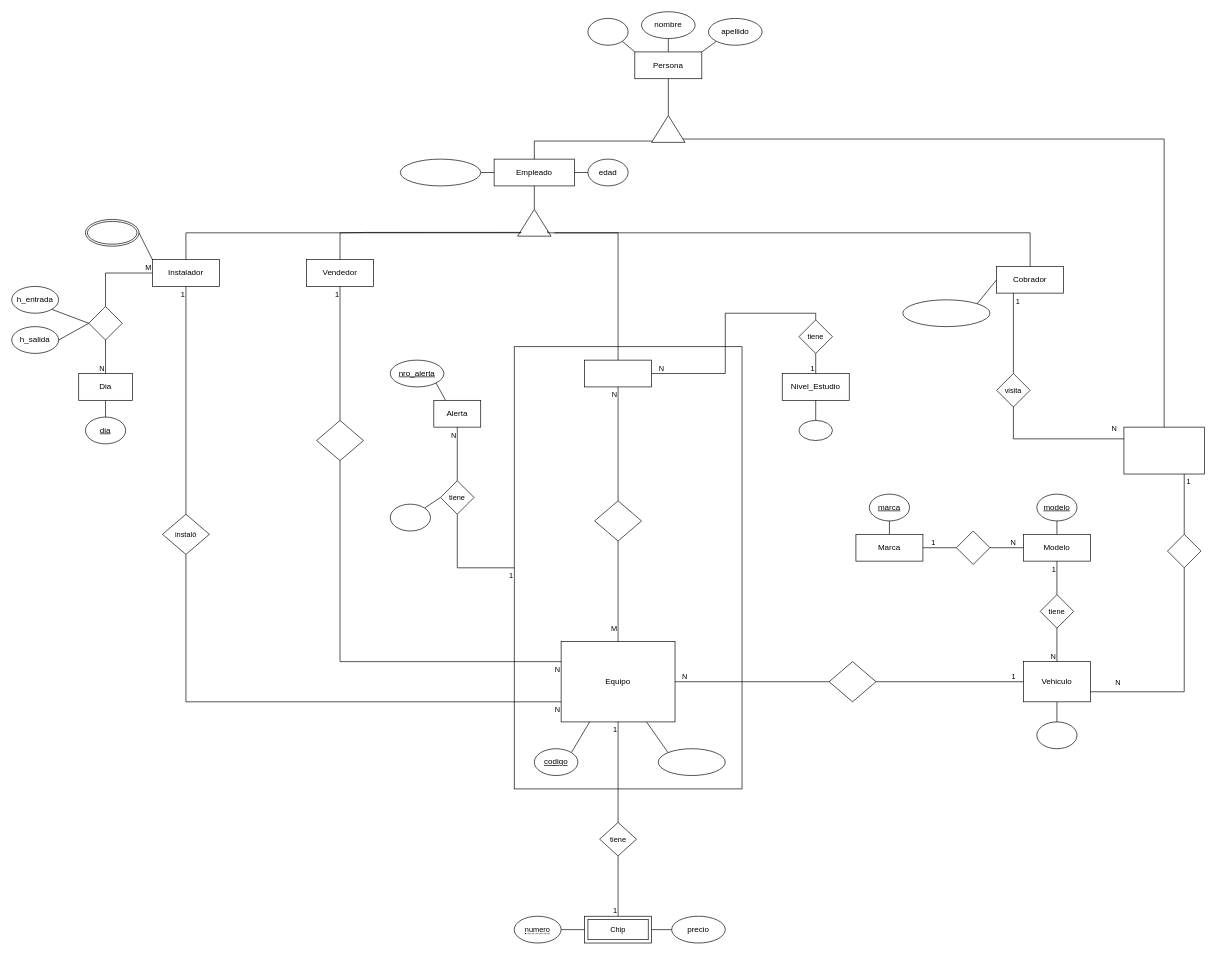
Some shapes in this 1216 by 955 pixel diagram are drawn without their labels. Here are the shapes that lost their labels. From the top down, the centre of each, then its label:
At point (607, 31): "dni".
At point (440, 172): "fecha_nacimiento".
At point (112, 232): "telefonos".
At point (105, 323): "horario".
At point (946, 313): "porcentaje_ganancia".
At point (618, 373): "Monitoreador".
At point (339, 440): "vendió".
At point (815, 430): "nivel".
At point (1163, 450): "Cliente".
At point (410, 517): "fecha".
At point (618, 520): "monitorea".
At point (973, 547): "es _de".
At point (1184, 551): "posee".
At point (852, 681): "instalado".
At point (1056, 735): "patente".
At point (691, 762): "descripcion".
